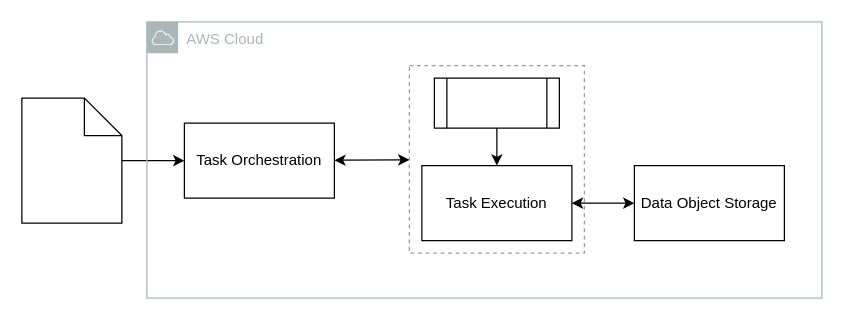
Image size: 844x320. Some labels were removed from this diagram. The centre of each missing label's shape, as x and y in pixels:
"Task Tooling" belongs at (496,102).
"Workflow Definition" belongs at (71,160).
